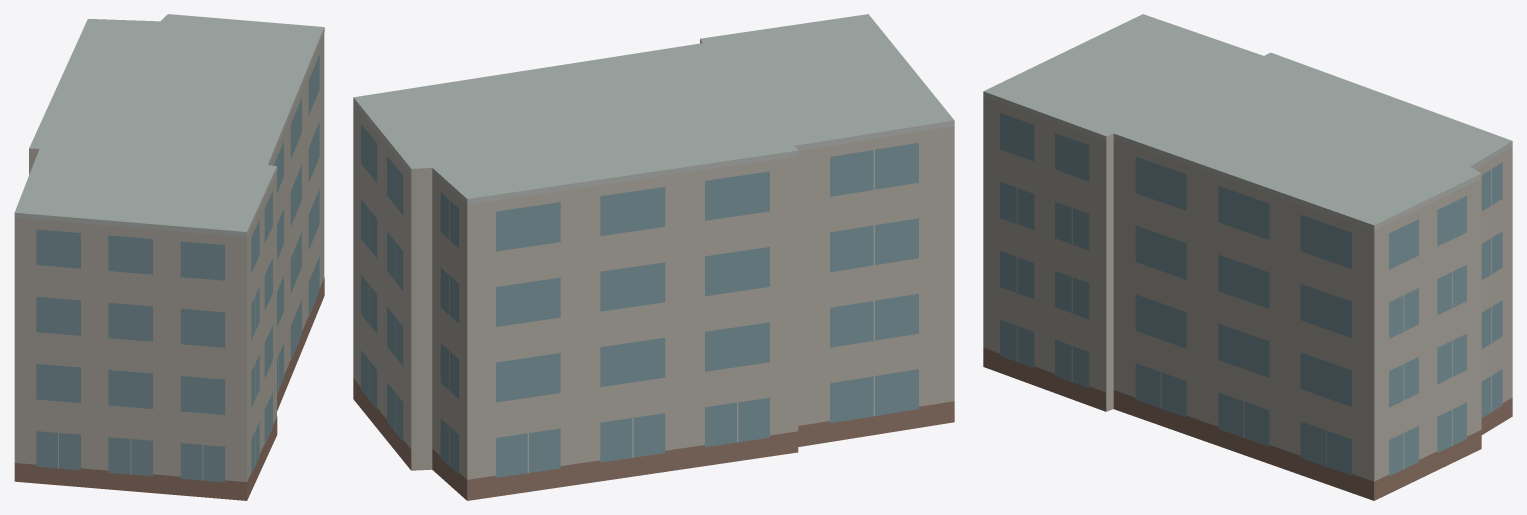
Rendered from survey-upis-32617474.glb.
The picture shows the model from 3 angles, left to right: view 1: azimuth 30°, elevation 25°; view 2: azimuth 150°, elevation 25°; view 3: azimuth 270°, elevation 25°; orthographic projection. The views are drawn at different scales.
Parts seen in each view (by area): view 1: survey-upis-32617474.tmp; view 2: survey-upis-32617474.tmp; view 3: survey-upis-32617474.tmp.
Part boxes in pixels (x1,y1,x2,y2): survey-upis-32617474.tmp: (14, 14, 324, 500); survey-upis-32617474.tmp: (353, 14, 954, 500); survey-upis-32617474.tmp: (983, 14, 1512, 500).
Bounding box in the file's own units: 21.07 × 12.8 × 22.29.
